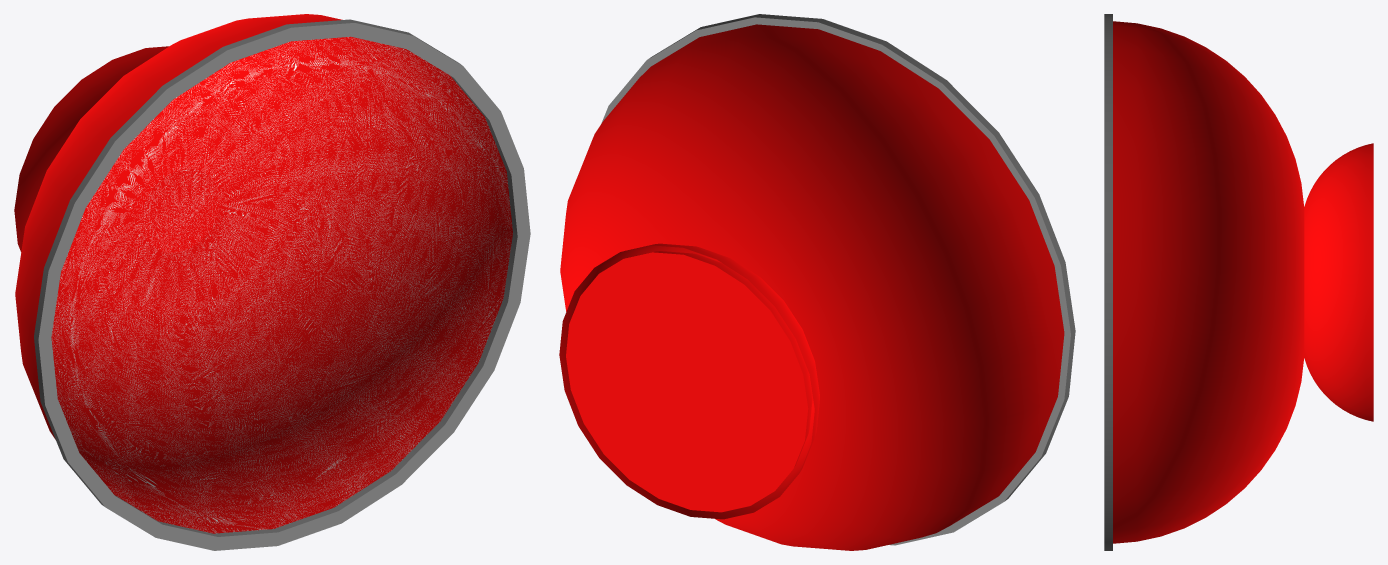
Rendered from model_align.obj.
The picture shows the model from 3 angles, left to right: view 1: azimuth 30°, elevation 25°; view 2: azimuth 150°, elevation 25°; view 3: azimuth 270°, elevation 25°; orthographic projection. The views are drawn at different scales.
Parts seen in each view (by area): view 1: mesh1_mesh1-geometry, mesh3_mesh3-geometry; view 2: mesh3_mesh3-geometry, mesh2_mesh2-geometry, mesh1_mesh1-geometry; view 3: mesh3_mesh3-geometry, mesh1_mesh1-geometry.
Part boxes in pixels (x1,y1,x2,y2): mesh1_mesh1-geometry: (34,19,530,550); mesh3_mesh3-geometry: (14,14,342,439); mesh3_mesh3-geometry: (559,24,1064,550); mesh2_mesh2-geometry: (566,251,812,512); mesh1_mesh1-geometry: (601,14,1075,545); mesh3_mesh3-geometry: (1113,21,1373,543); mesh1_mesh1-geometry: (1104,14,1112,550).
Size of the model in its own units: 0.1446 by 0.1446 by 0.0725.
